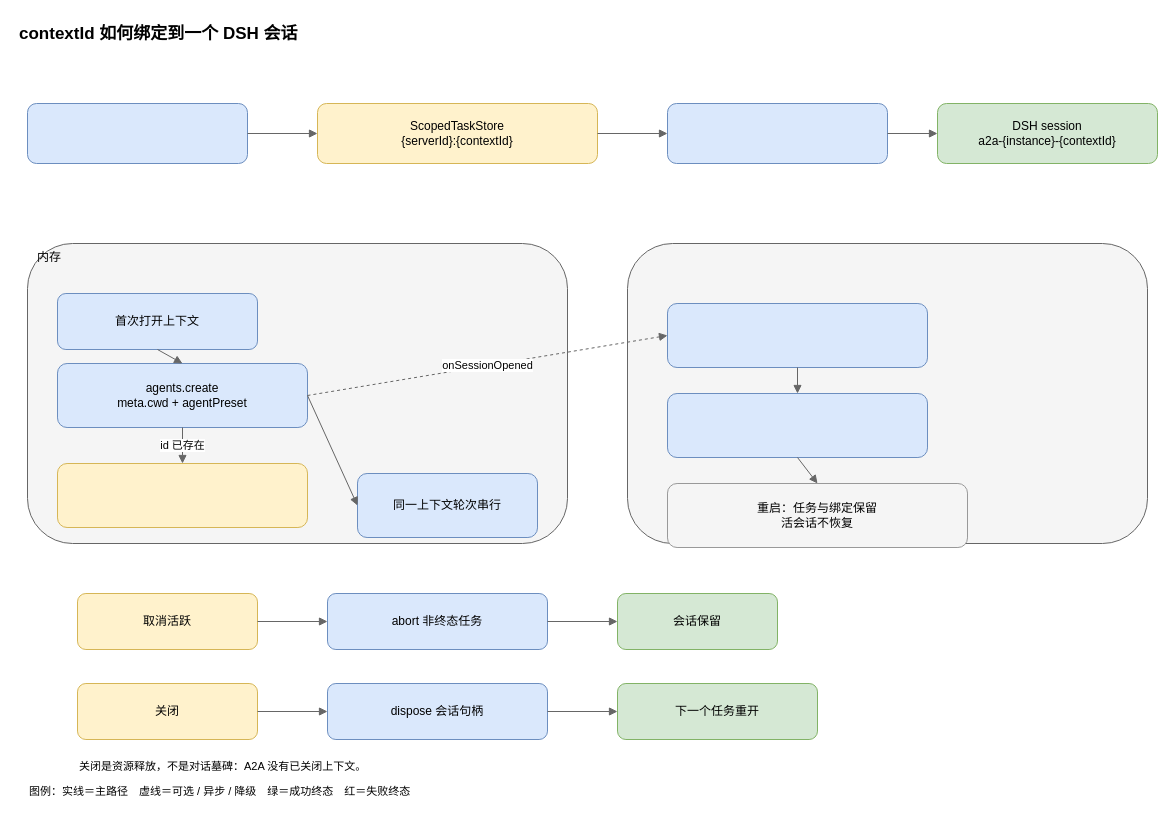
Image size: 1175x819. Some labels were removed from this diagram. The shapes that lost their labels are listed below. From the top down, each one's box as (x1, y1, x2, y2) in pixels, then its label:
(26, 102, 248, 164): SendMessage contextId
(666, 102, 888, 164): ContextSessionPool handles Map
(666, 302, 928, 368): contexts 表 contextId → sessionId
(626, 242, 1148, 544): 持久化
(666, 392, 928, 458): tasks 表 任务与 serverId
(56, 462, 308, 528): already / persisted → agents.resume
